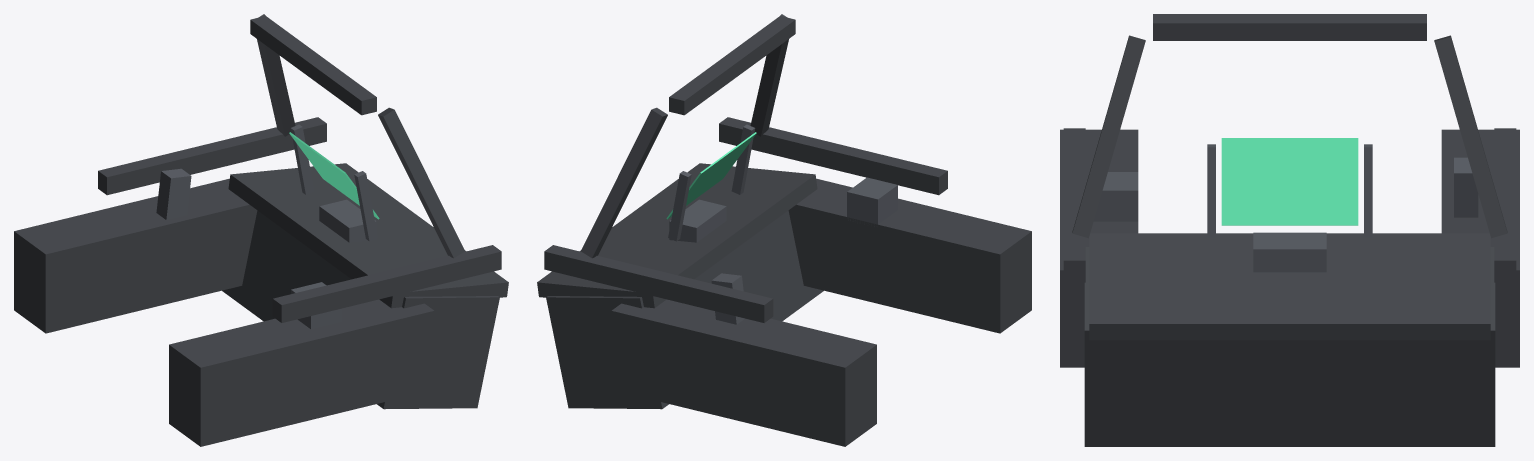
File: SM_F22_Cockpit.fbx
3 renders of one model, left to right at view 1: azimuth 30°, elevation 25°; view 2: azimuth 150°, elevation 25°; view 3: azimuth 270°, elevation 25°, orthographic. The views are drawn at different scales.
Visible parts, largest first — view 1: SM_F22_Cockpit; view 2: SM_F22_Cockpit; view 3: SM_F22_Cockpit.
Part boxes in pixels (x1,y1,x2,y2): SM_F22_Cockpit: [14, 14, 508, 446]; SM_F22_Cockpit: [537, 14, 1031, 446]; SM_F22_Cockpit: [1060, 14, 1519, 446].
Bounding box in the file's own units: 0.9311 × 0.94 × 0.8569.
